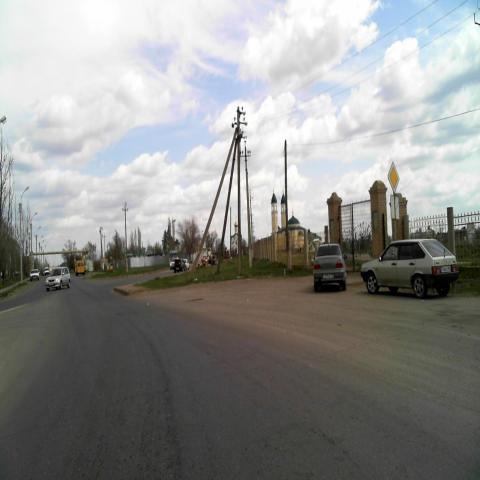2_1: (387, 162, 400, 194)
